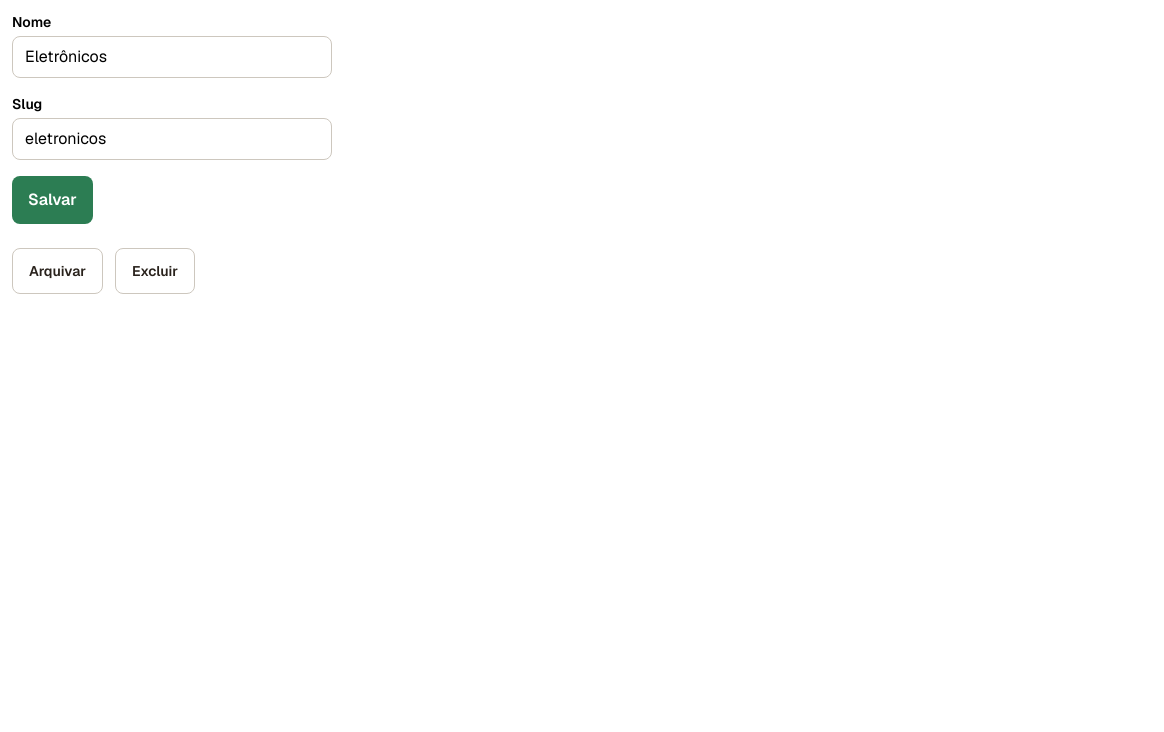
Scenario: CategoryDetail › UXA-004: editar com sucesso dispara o toast "Categoria salva."
Replace the text in the field labelled "Nome" with "Eletrônicos e Acessórios". click: (172, 57)
box: [12, 36, 332, 78]
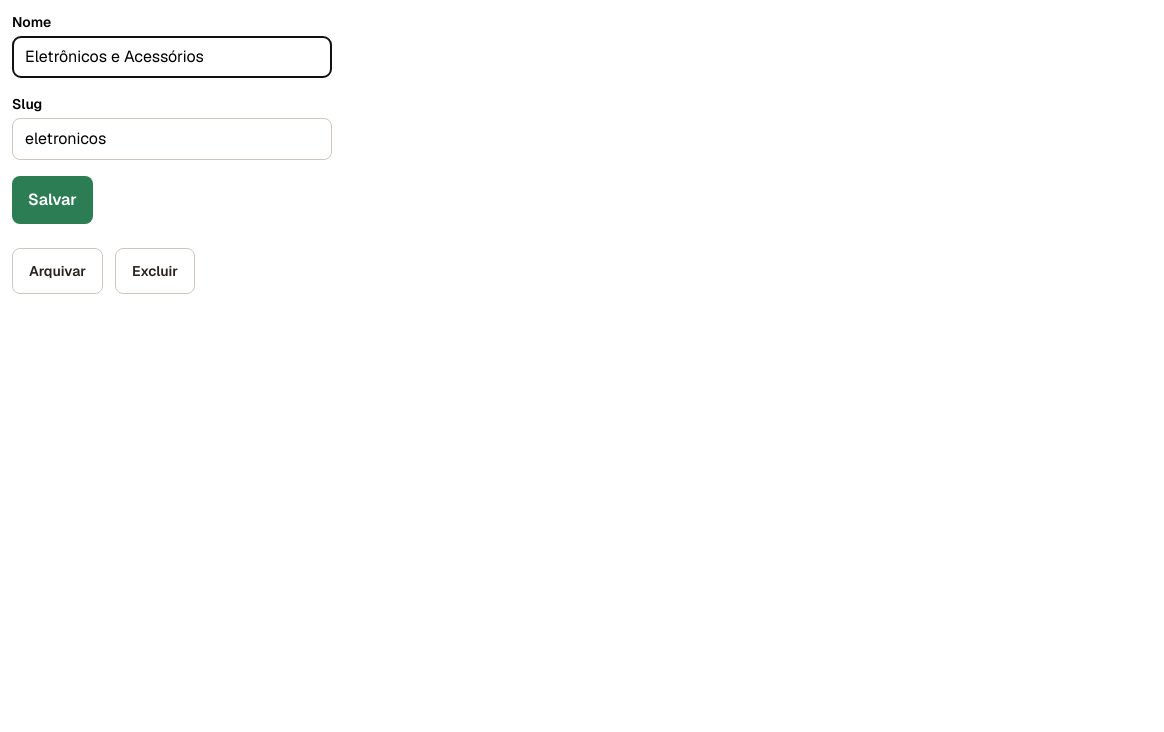
Click the button "Salvar". click: (52, 200)
box: [12, 176, 93, 224]
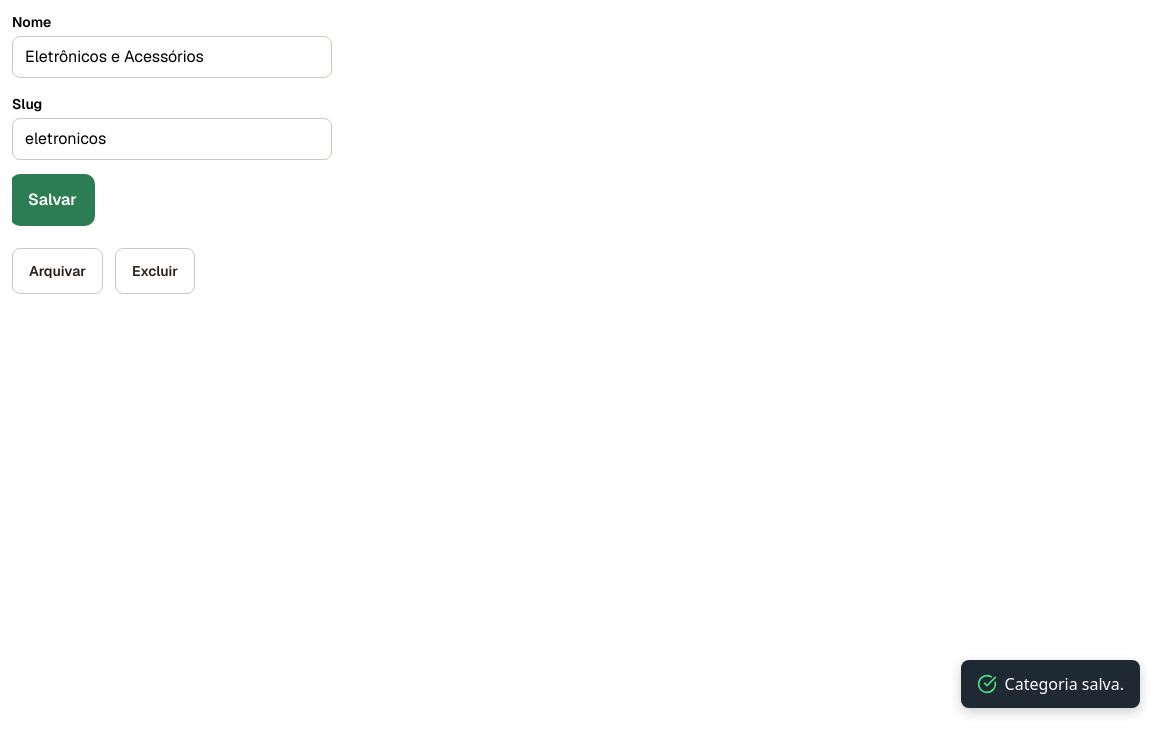
Now the text "Categoria salva." is shown, box [1004, 672, 1124, 696]
